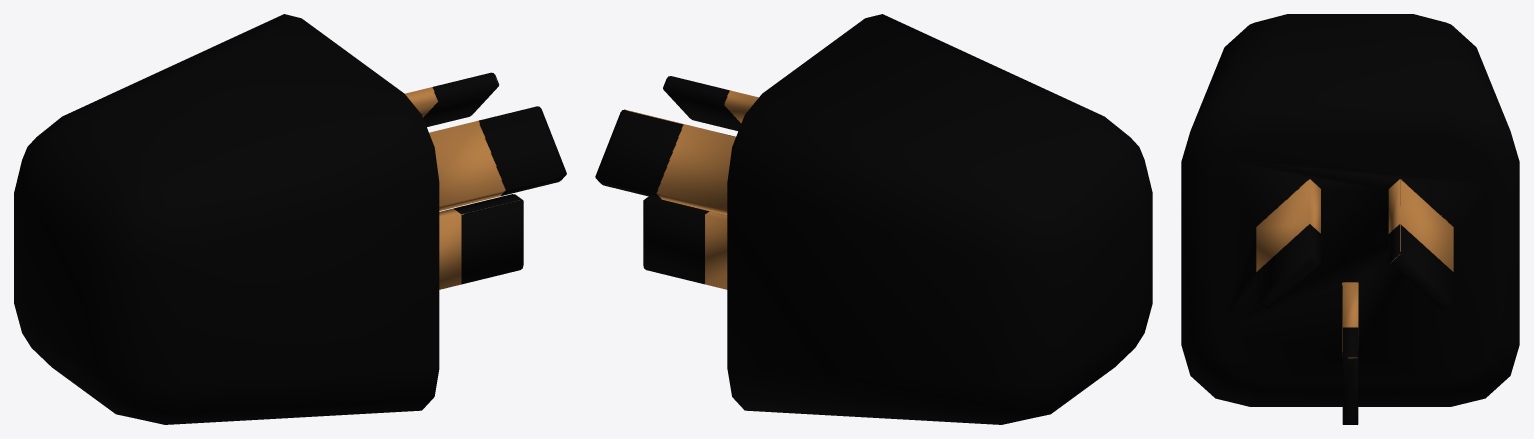
File: Plug.fbx
3 views of the same model, side by side, from view 1: azimuth 30°, elevation 25°; view 2: azimuth 150°, elevation 25°; view 3: azimuth 270°, elevation 25° (orthographic).
Visible parts, largest first — view 1: Plug2; view 2: Plug2; view 3: Plug2.
Part boxes in pixels (bbox=[...]): Plug2: bbox=[14, 14, 566, 424]; Plug2: bbox=[595, 14, 1152, 424]; Plug2: bbox=[1181, 14, 1519, 424].
Size of the model in its own units: 313 by 200 by 200.
